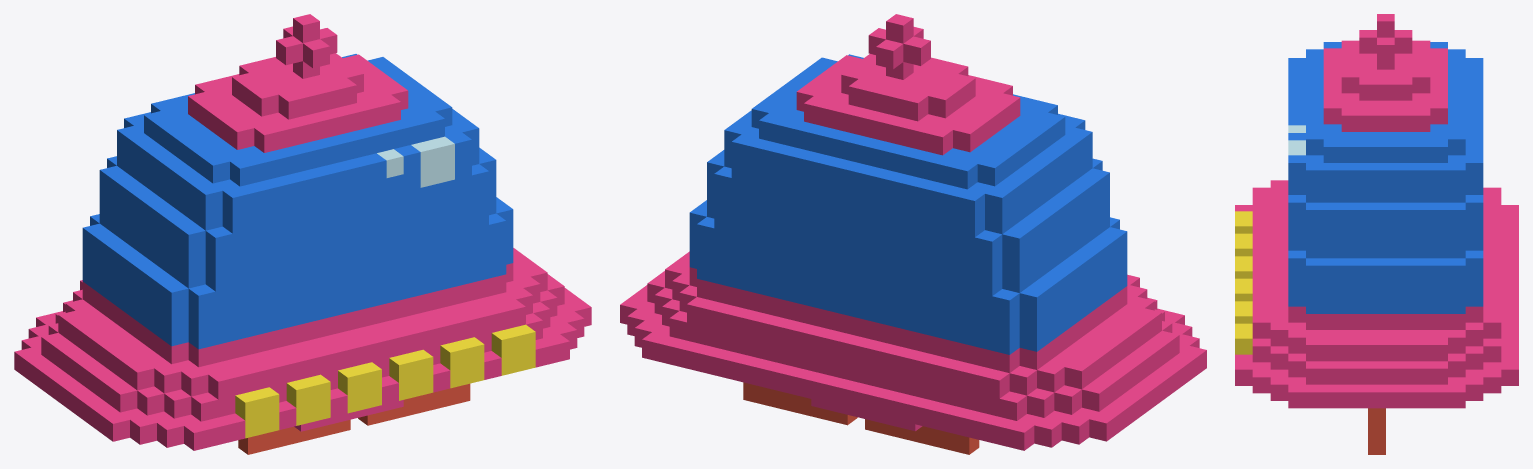
The model's file is ufo.glb.
3 renders of one model, left to right at view 1: azimuth 30°, elevation 25°; view 2: azimuth 150°, elevation 25°; view 3: azimuth 270°, elevation 25°, orthographic. The views are drawn at different scales.
Visible parts, largest first — view 1: base, mouth, glasses; view 2: base, glasses; view 3: base, mouth, glasses.
Boxes of the visible parts, x1,y1,x2,y2 form: base: [14, 14, 591, 450]; mouth: [235, 324, 535, 438]; glasses: [238, 383, 470, 454]; base: [620, 14, 1206, 450]; glasses: [743, 382, 979, 454]; base: [1235, 14, 1518, 408]; mouth: [1235, 211, 1252, 354]; glasses: [1368, 408, 1385, 454].
Bounding box in the file's own units: 28 × 23 × 16.
10 materials, 10 textured.
